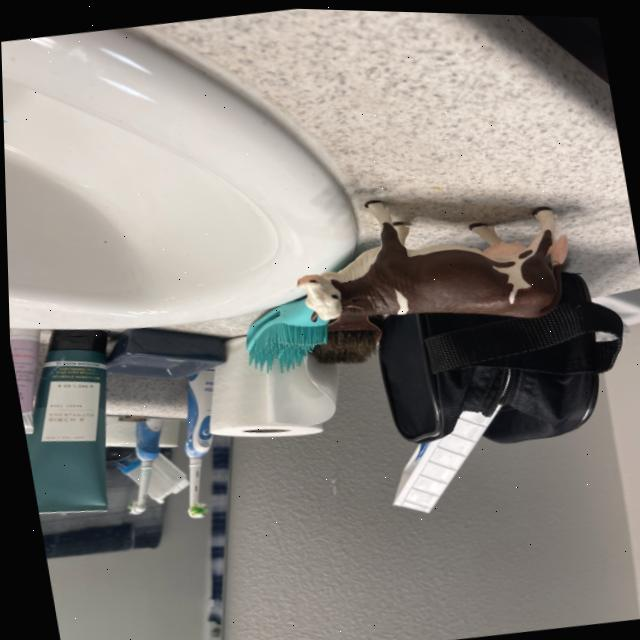cow: (294, 196, 568, 319)
